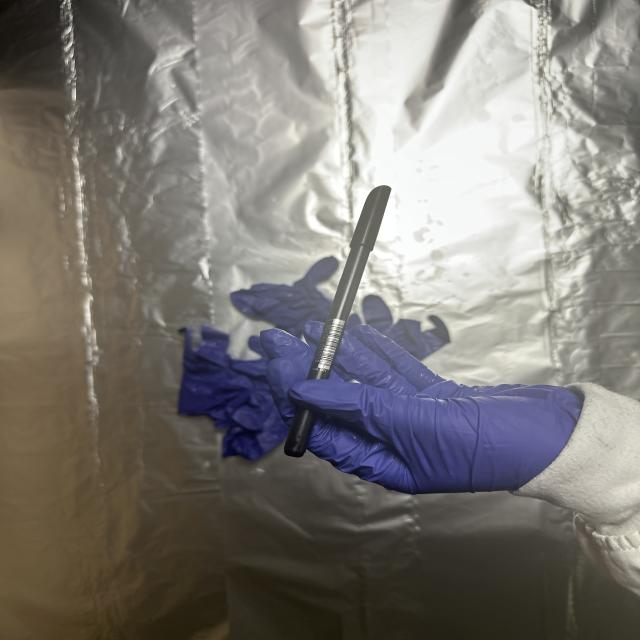gloves_contaminated: (262, 326, 582, 494)
